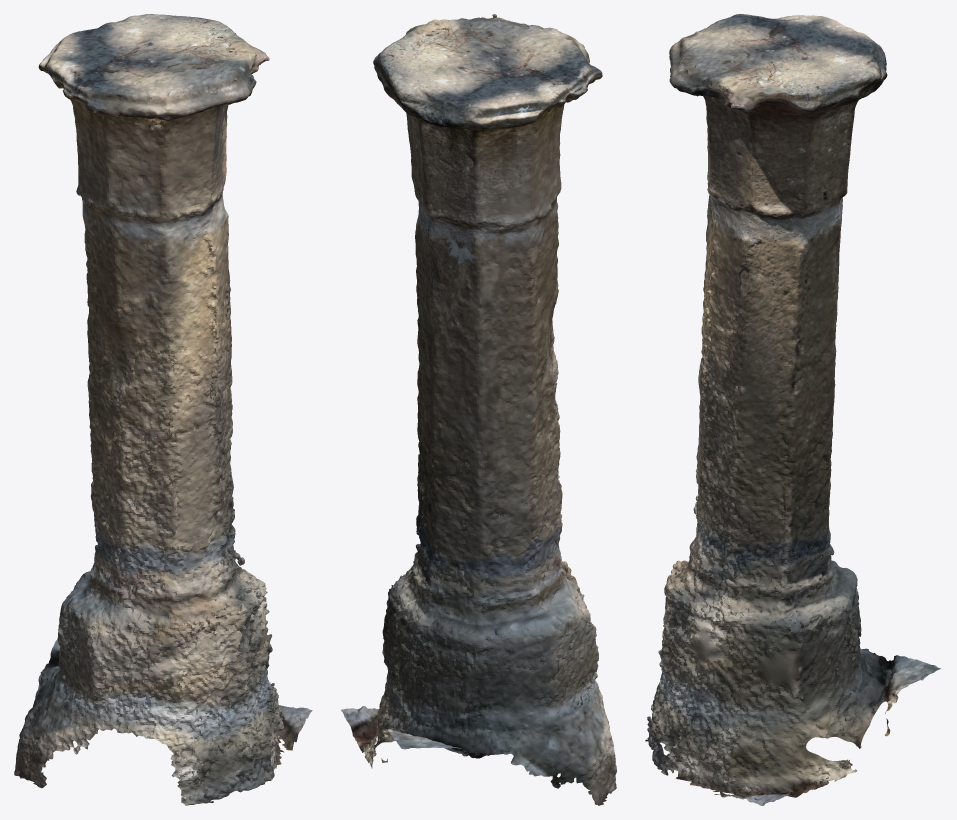
Rendered from Pillar.glb.
3 views of the same model, side by side, from view 1: azimuth 30°, elevation 25°; view 2: azimuth 150°, elevation 25°; view 3: azimuth 270°, elevation 25° (orthographic). The views are drawn at different scales.
Size of the model in its own units: 0.8148 by 1.95 by 0.7581.
Materials: 1 (1 with a texture image).
